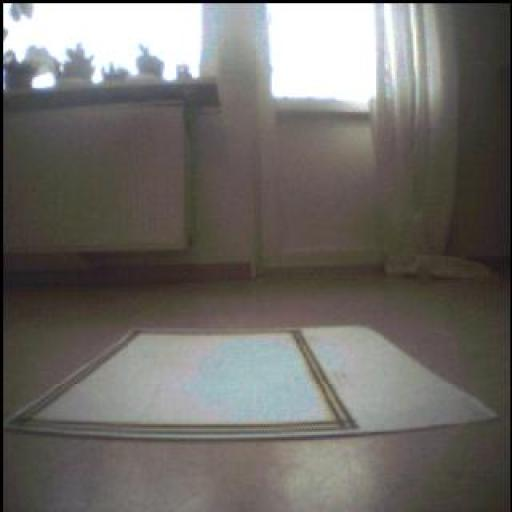Pad: (6, 328, 495, 440)
